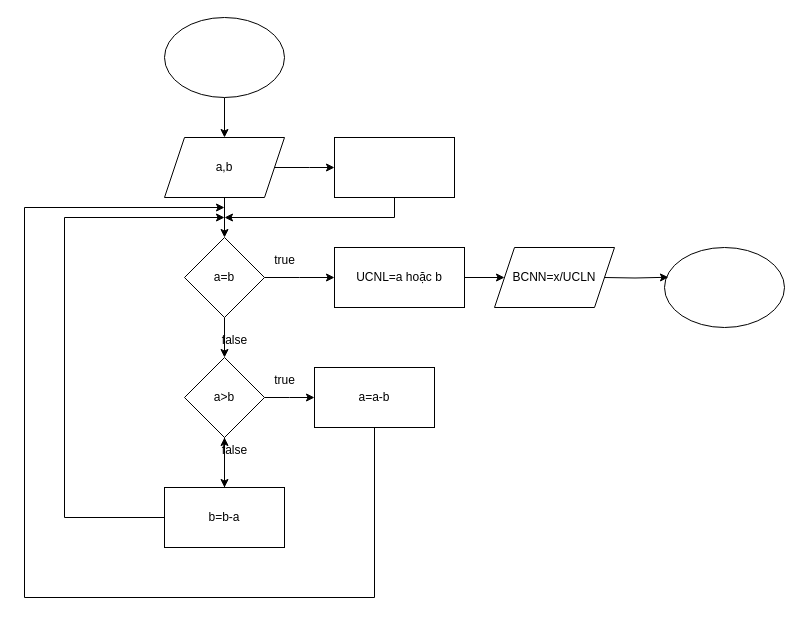
The diagram is 802 pixels wide and 623 high, and some of its shapes have lost their labels. The shapes that lost their labels are listed below. From the top down, each one's centre as x and y in pixels, then its label:
At [224,57]: "begin".
At [394,167]: "x=a*b".
At [724,287]: "end".
